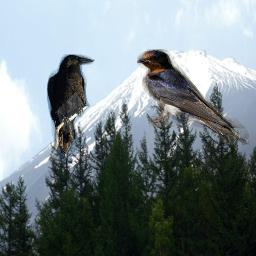Crow: (47, 54, 95, 160)
Swallow: (137, 49, 251, 148)
